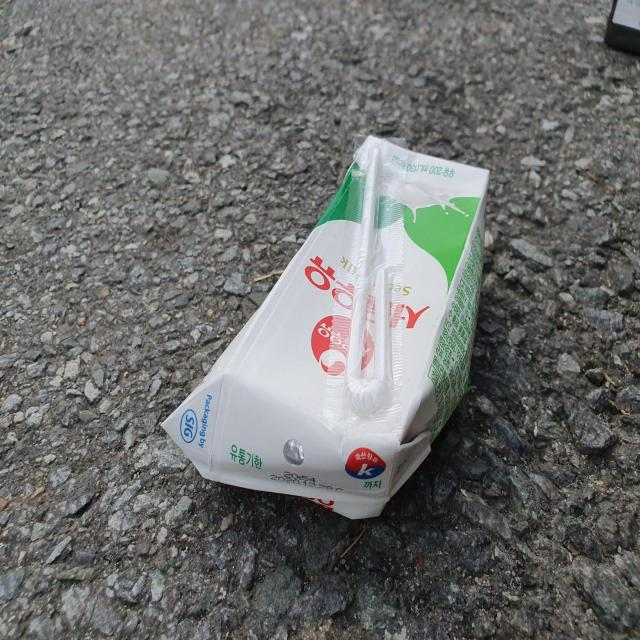paperpack: (161, 135, 490, 519)
